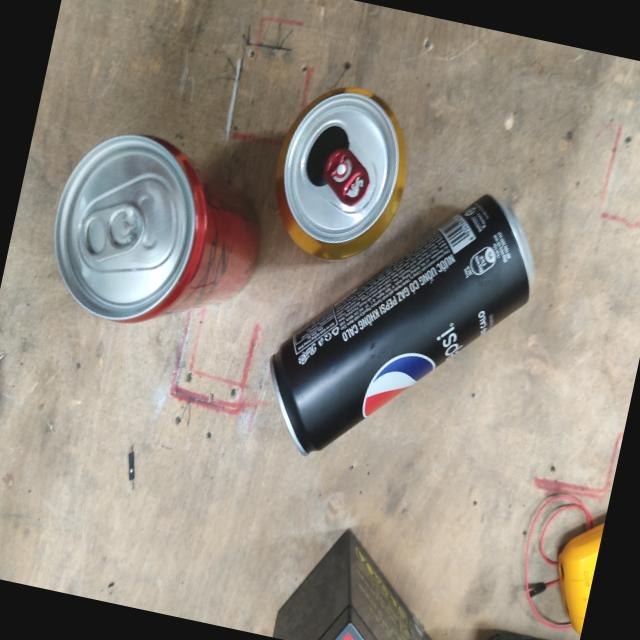kim_loai: (269, 195, 535, 455), (52, 134, 259, 322), (275, 87, 406, 259)
